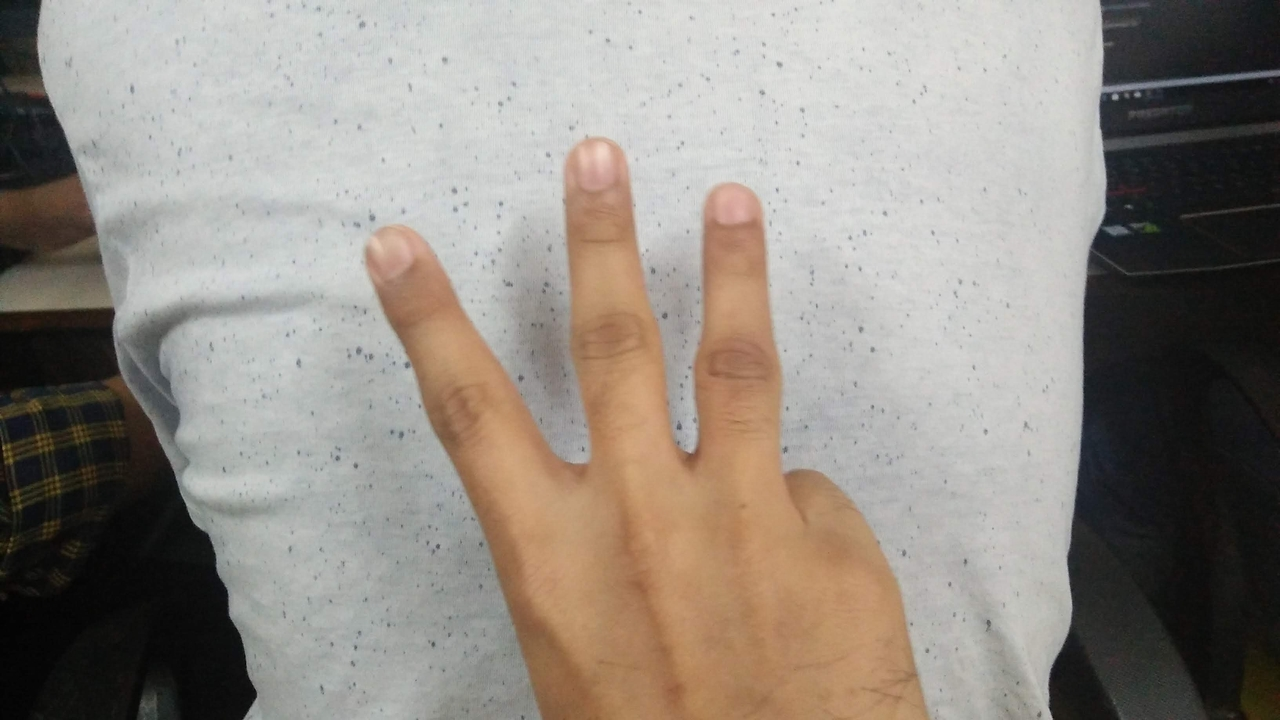fingertip: (350, 224, 434, 286), (702, 178, 768, 240), (558, 142, 632, 196)
